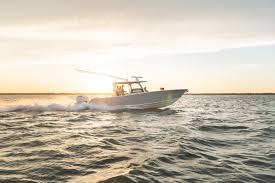boat: (74, 75, 189, 110)
